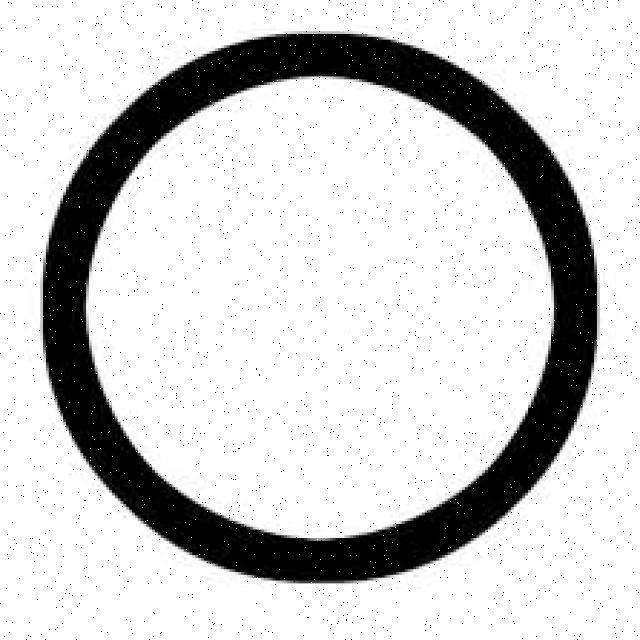Circle: (40, 29, 599, 582)
